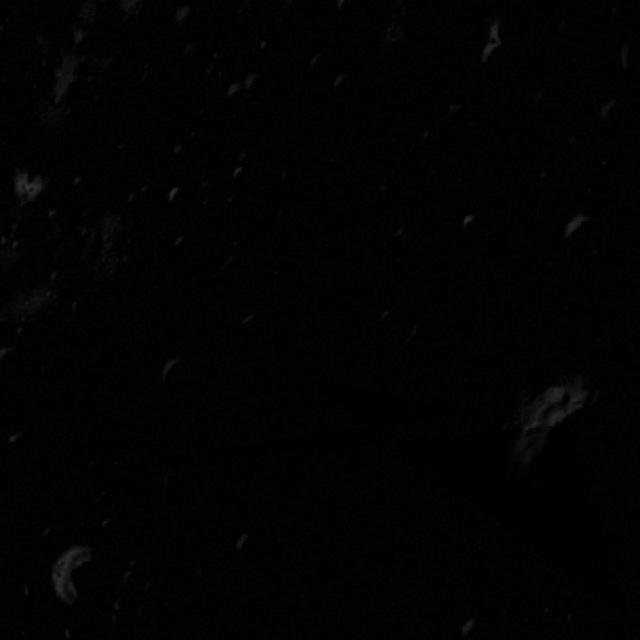crater: (472, 342, 634, 556), (216, 366, 302, 443), (140, 338, 218, 417), (210, 298, 288, 372), (553, 205, 616, 266), (322, 60, 378, 118), (367, 294, 422, 351), (356, 174, 409, 226), (114, 0, 178, 43), (169, 0, 228, 46), (595, 91, 640, 147), (289, 281, 336, 334), (19, 168, 64, 223), (448, 275, 494, 323), (319, 143, 367, 189), (222, 526, 269, 572), (152, 462, 197, 508), (53, 293, 96, 338), (29, 514, 71, 560), (159, 176, 204, 218), (477, 44, 523, 85), (178, 39, 222, 81), (134, 568, 178, 604), (2, 428, 44, 464), (529, 86, 563, 129), (103, 452, 142, 488), (527, 163, 562, 203), (300, 49, 338, 85), (222, 158, 258, 196), (445, 100, 477, 142), (234, 491, 272, 526), (52, 433, 88, 469), (164, 137, 201, 172), (281, 0, 334, 23), (453, 614, 499, 640), (164, 227, 198, 262), (221, 79, 256, 113), (44, 403, 78, 435), (434, 208, 466, 238), (312, 238, 341, 270), (168, 416, 197, 446), (459, 211, 484, 244), (67, 171, 96, 197), (536, 597, 558, 629), (68, 70, 94, 96), (0, 344, 20, 376), (506, 250, 531, 275), (333, 0, 359, 22), (0, 315, 14, 342), (214, 0, 243, 3)
